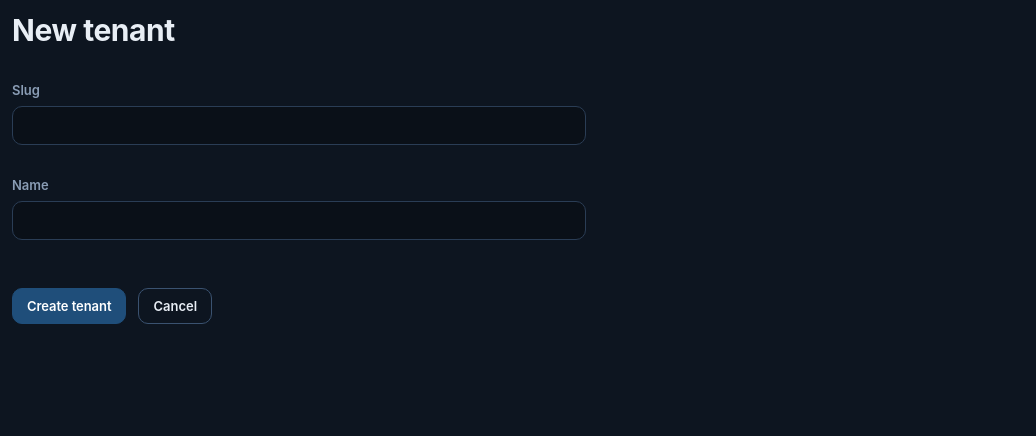
TenantForm create › 403 -> persistent banner with request_id, no route change
Type "x" into the field labelled "Slug".
click(299, 125); type("x")  # box x1=12 y1=106 x2=586 y2=145
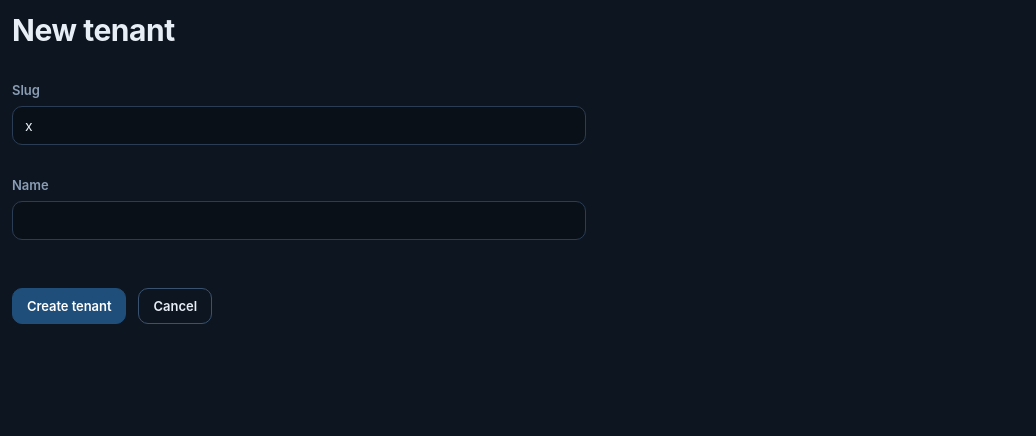
Type "Y" into the field labelled "Name".
click(299, 220); type("Y")  # box x1=12 y1=201 x2=586 y2=240
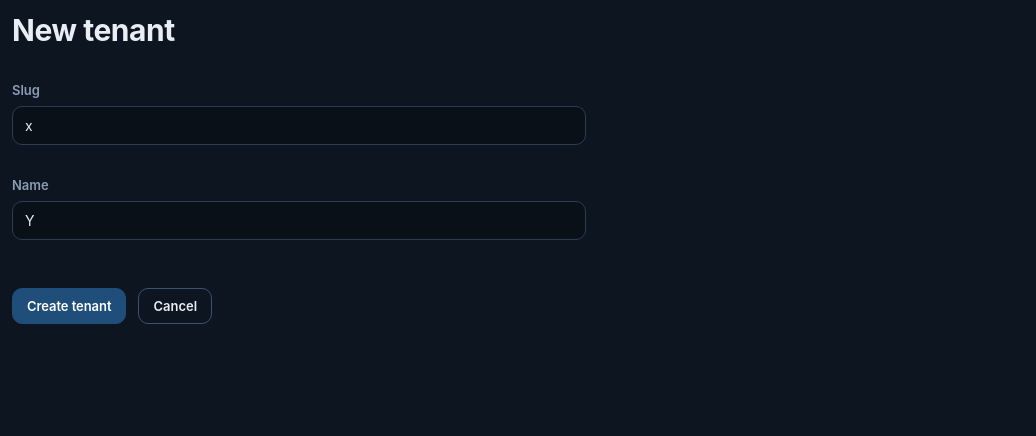
Click the button "Create tenant".
click(69, 306)  # box x1=12 y1=288 x2=126 y2=324
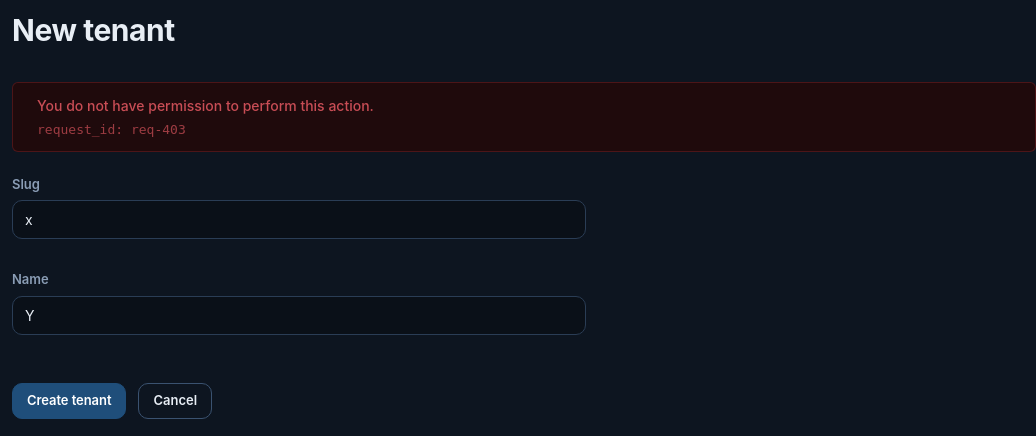
Expected: the message "You do not have permission to perform this action. request_id: req-403" is shown, x1=12 y1=82 x2=1035 y2=152
Expected: the text "request_id: req-403" is shown, x1=37 y1=122 x2=186 y2=136
